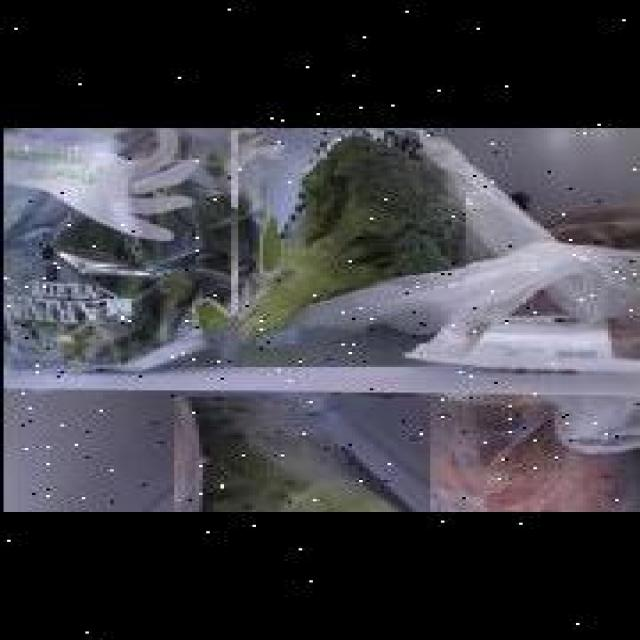broccoli: (231, 130, 462, 344)
salad: (170, 397, 427, 512)
